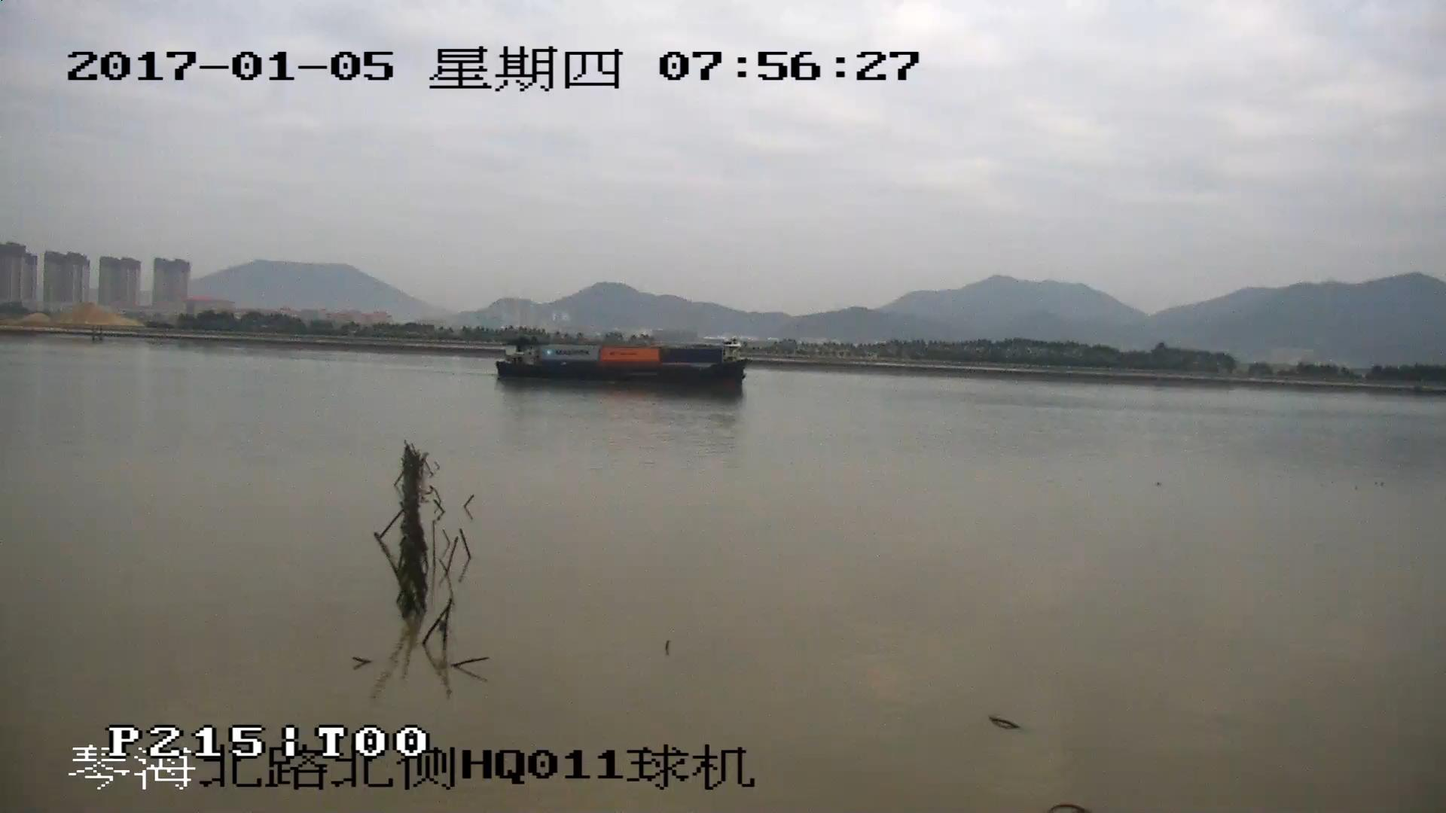container ship: (498, 340, 746, 390)
